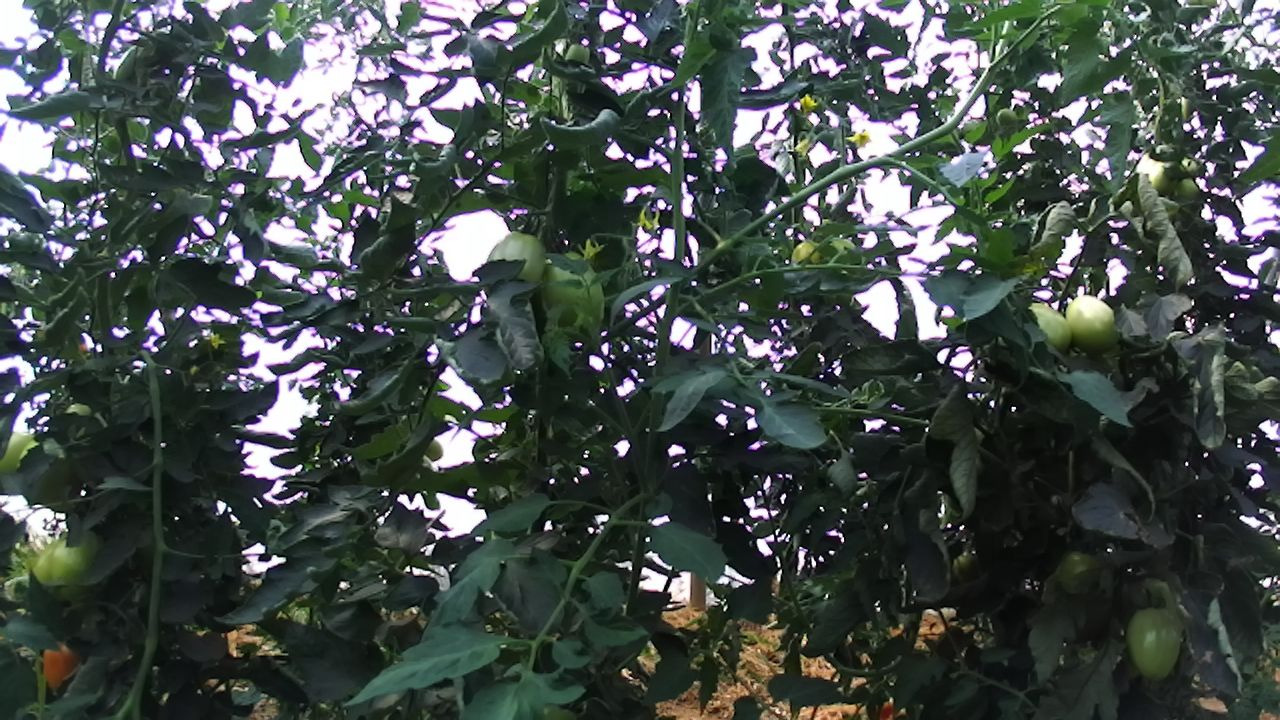tomato: (480, 226, 556, 306), (1124, 601, 1183, 686), (1063, 291, 1122, 355), (1052, 541, 1105, 599)
